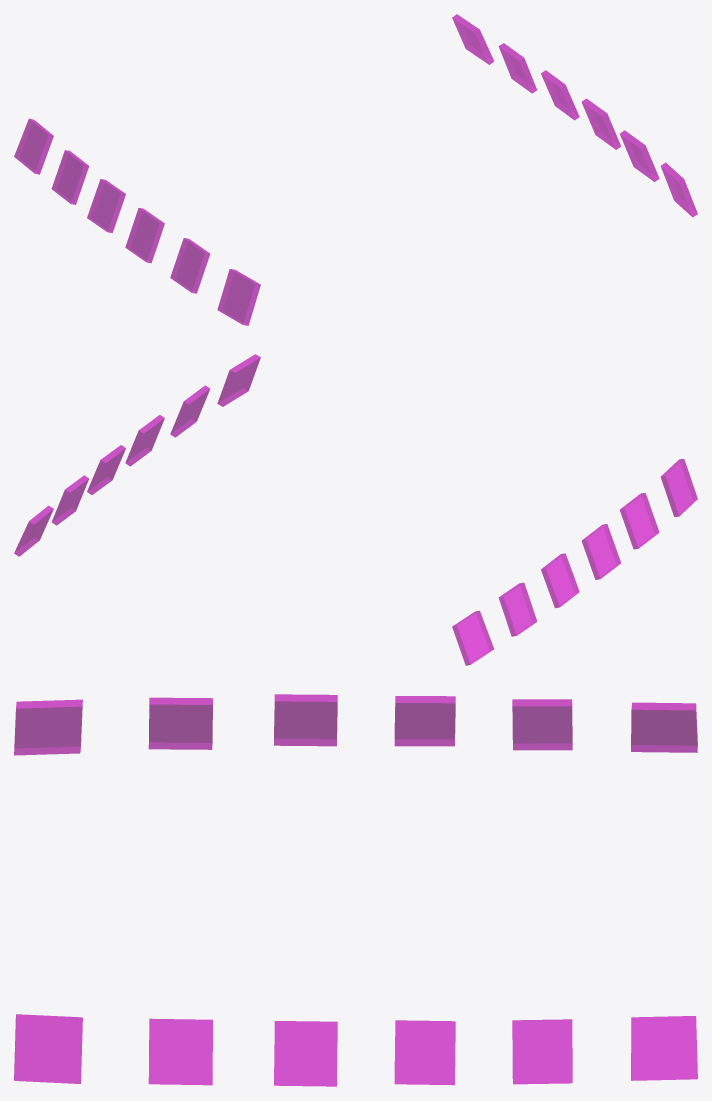
File: SM_Veh_Ship_L_Cannon_Hatch_Closed_02_Collision.fbx
3 views of the same model, one above another, from view 1: azimuth 30°, elevation 25°; view 2: azimuth 150°, elevation 25°; view 3: azimuth 270°, elevation 25° (orthographic). The views are drawn at different scales.
Visible parts, largest first — view 1: SM_Veh_Ship_L_Cannon_Hatch_Closed_02_Collision; view 2: SM_Veh_Ship_L_Cannon_Hatch_Closed_02_Collision; view 3: SM_Veh_Ship_L_Cannon_Hatch_Closed_02_Collision.
Part boxes in pixels (box(x1,y1,x2,y2)): SM_Veh_Ship_L_Cannon_Hatch_Closed_02_Collision: box(14, 14, 697, 325); SM_Veh_Ship_L_Cannon_Hatch_Closed_02_Collision: box(14, 354, 697, 665); SM_Veh_Ship_L_Cannon_Hatch_Closed_02_Collision: box(14, 694, 697, 1086).
Size of the model in its own units: 1337 by 109 by 1113.
